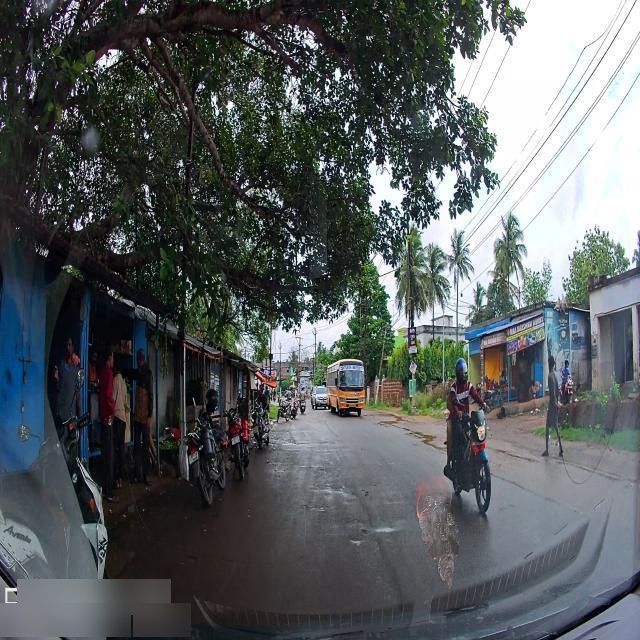pothole: (314, 480, 354, 500), (362, 522, 404, 540)
